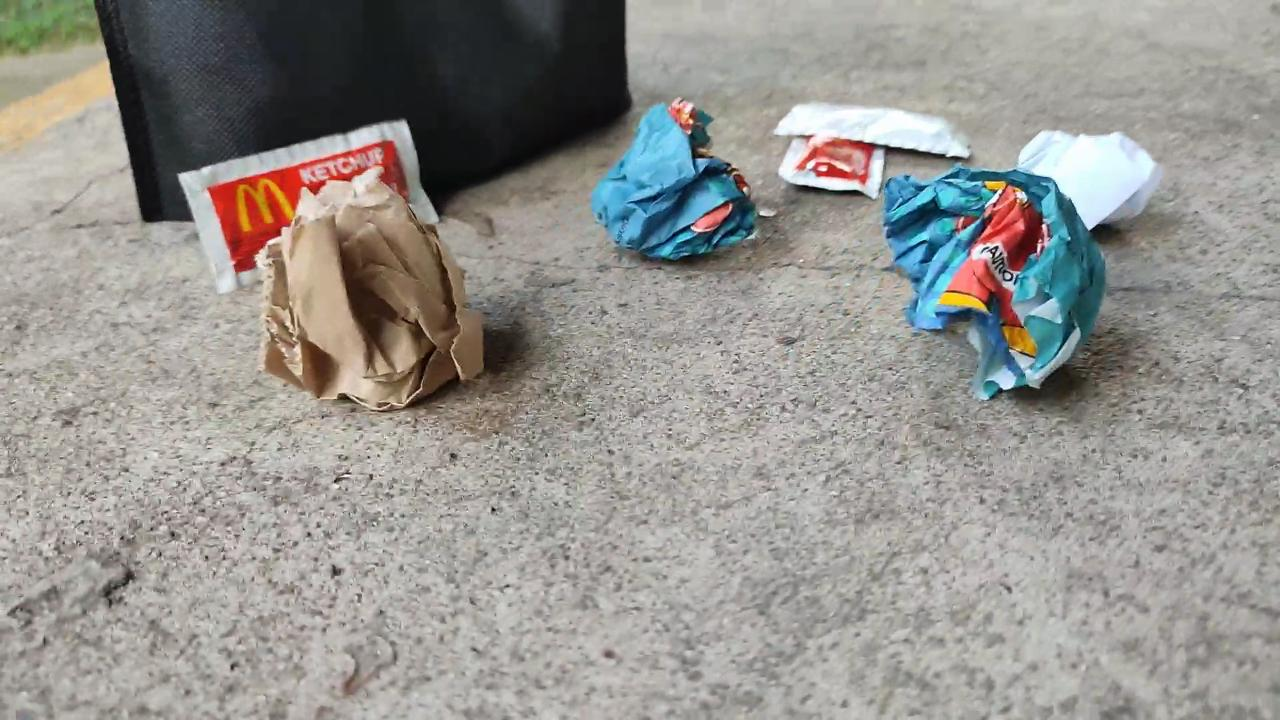Paper: (877, 152, 1110, 400), (252, 181, 485, 407), (584, 92, 765, 278), (1009, 84, 1179, 246)
